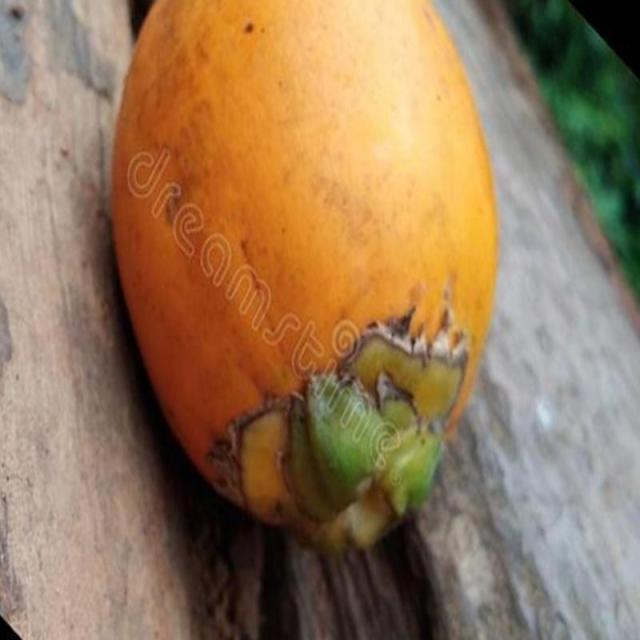good: (110, 0, 499, 553)
